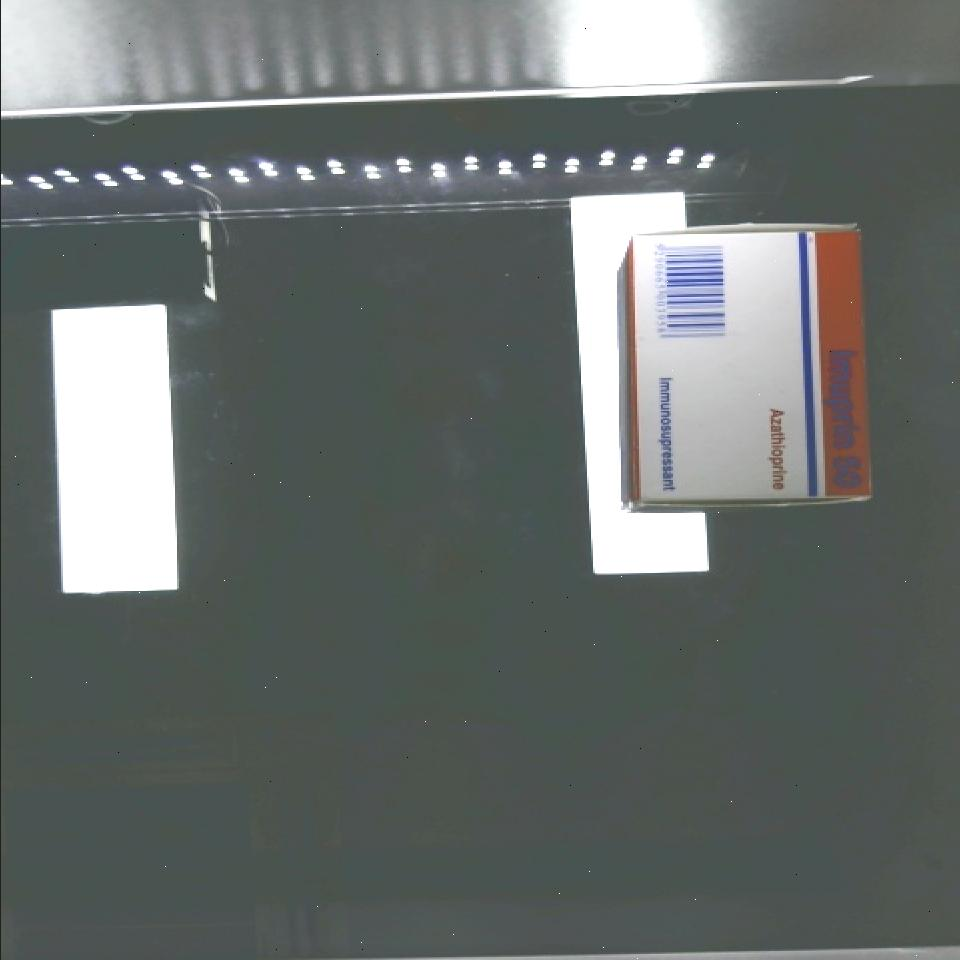medicine_box: (626, 224, 871, 514)
medicine_label_obb: (808, 330, 868, 504)
